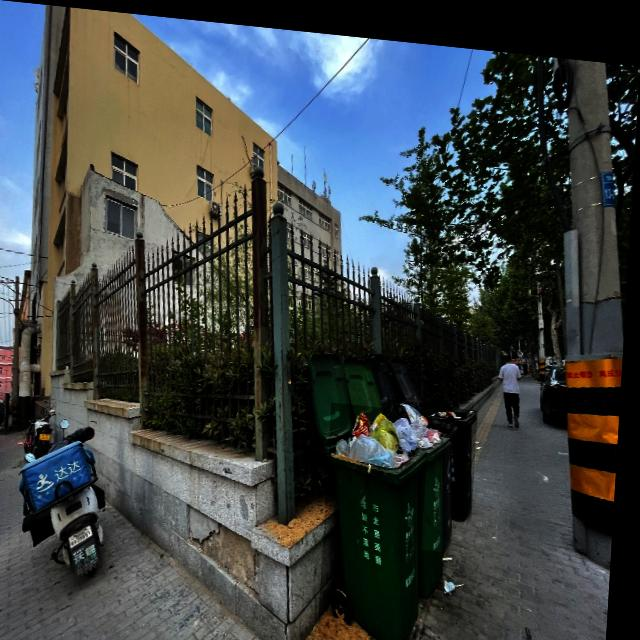overflow: (325, 395, 434, 640), (384, 390, 457, 589), (424, 395, 482, 510), (427, 409, 463, 542)
